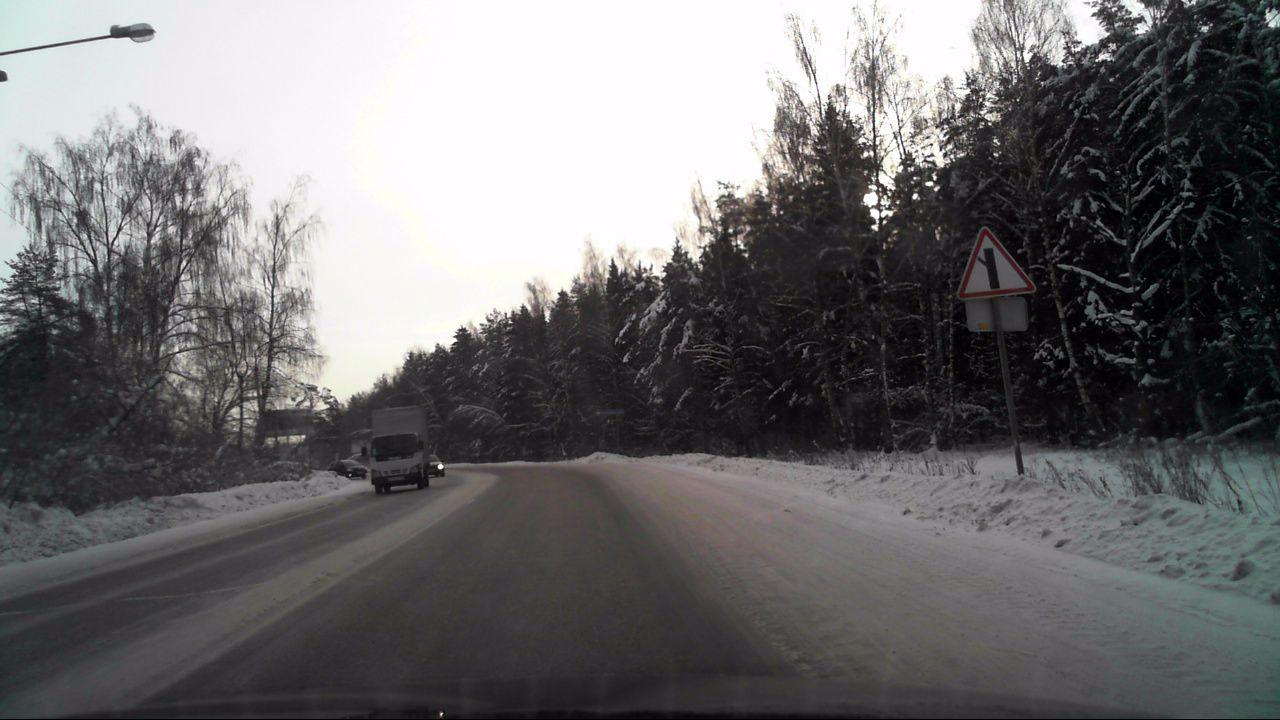2_3_3: (957, 227, 1036, 298)
